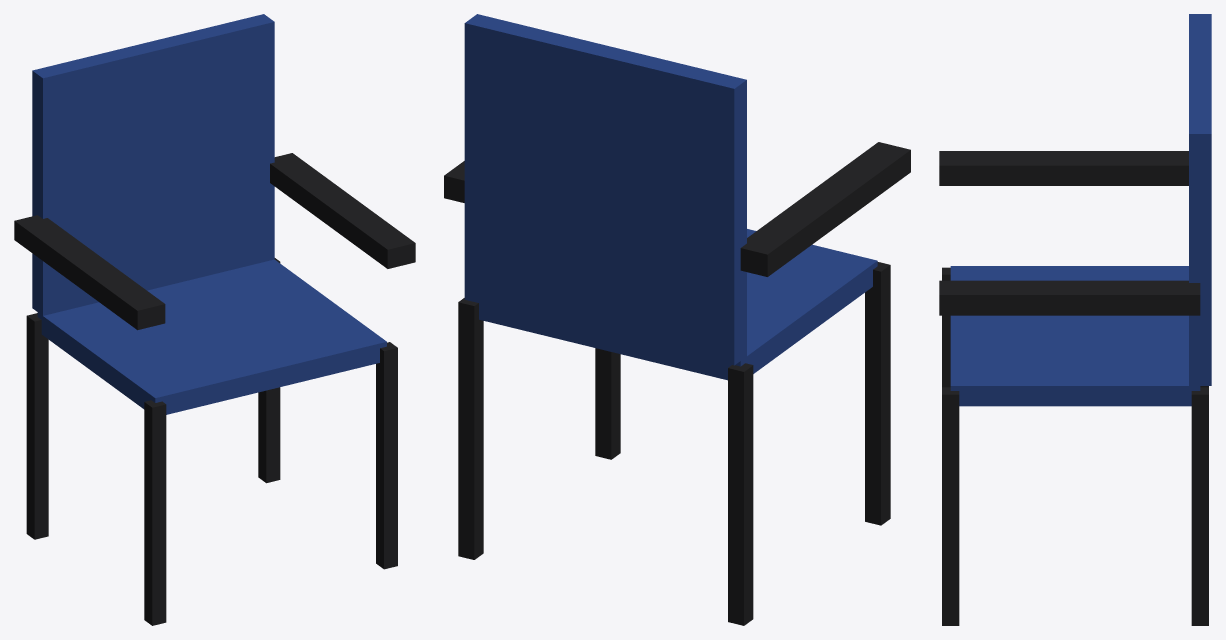
The model's file is chair_blue.dae.
3 renders of one model, left to right at view 1: azimuth 30°, elevation 25°; view 2: azimuth 150°, elevation 25°; view 3: azimuth 270°, elevation 25°, orthographic. The views are drawn at different scales.
Parts seen in each view (by area): view 1: marker; view 2: marker; view 3: marker.
Part boxes in pixels (<box>): marker: <box>14,14,415,625</box>; marker: <box>444,14,910,625</box>; marker: <box>939,14,1211,625</box>.
Bounding box in the file's own units: 0.6 × 0.48 × 0.95.
1 material, 1 textured.
